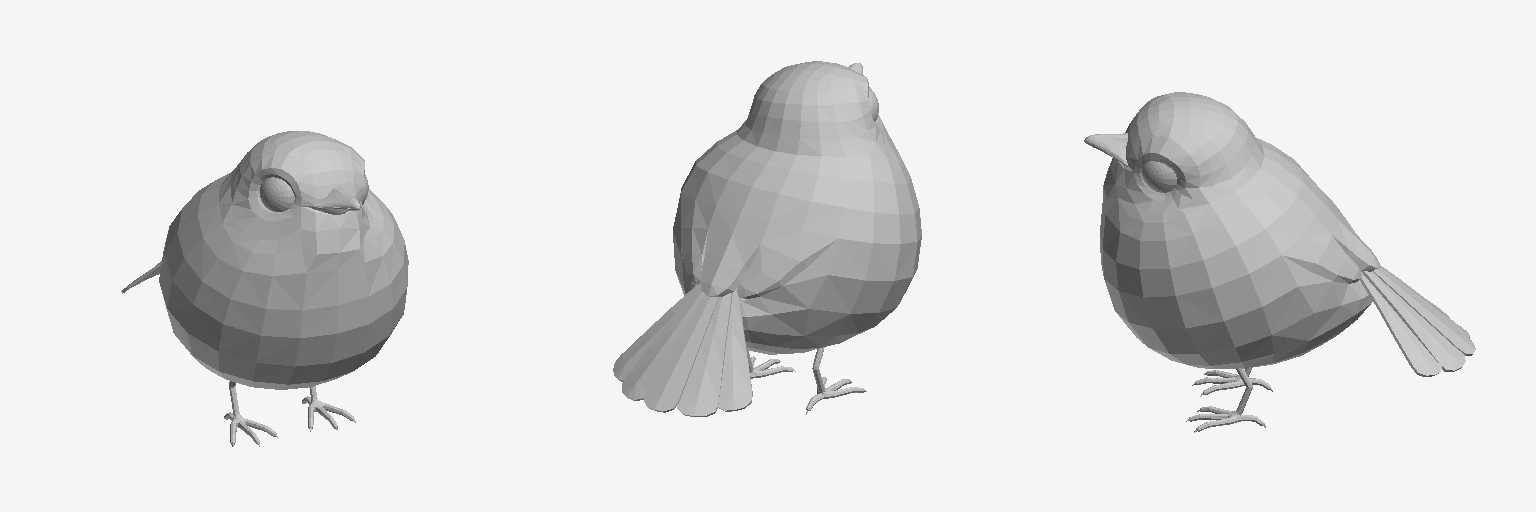
The model's file is Bird_70.obj.
3 renders of one model, left to right at view 1: azimuth 30°, elevation 25°; view 2: azimuth 150°, elevation 25°; view 3: azimuth 270°, elevation 25°, orthographic.
Visible parts, largest first — view 1: Object_51; view 2: Object_51; view 3: Object_51.
Part boxes in pixels (left/top/right/bottom): Object_51: left=121, top=131, right=408, bottom=446; Object_51: left=613, top=61, right=921, bottom=416; Object_51: left=1084, top=92, right=1475, bottom=432.
Bounding box in the file's own units: 0.418 × 0.5647 × 0.6557.